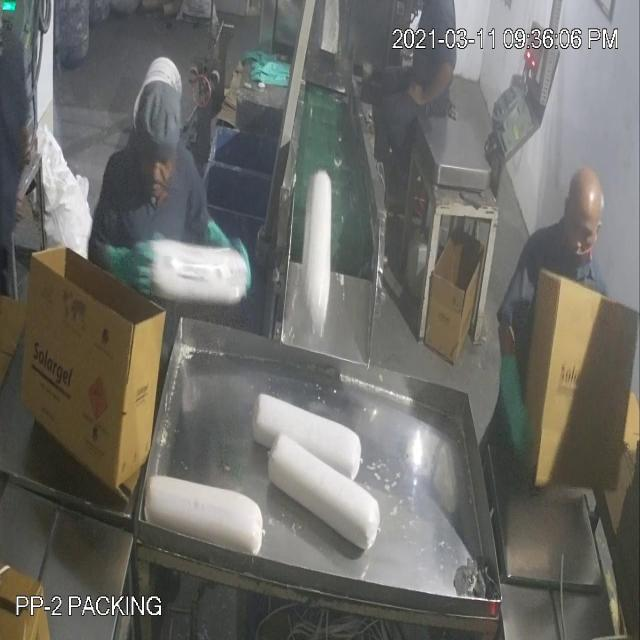gloves: (489, 348, 537, 460)
no-gloves: (401, 59, 451, 110)
